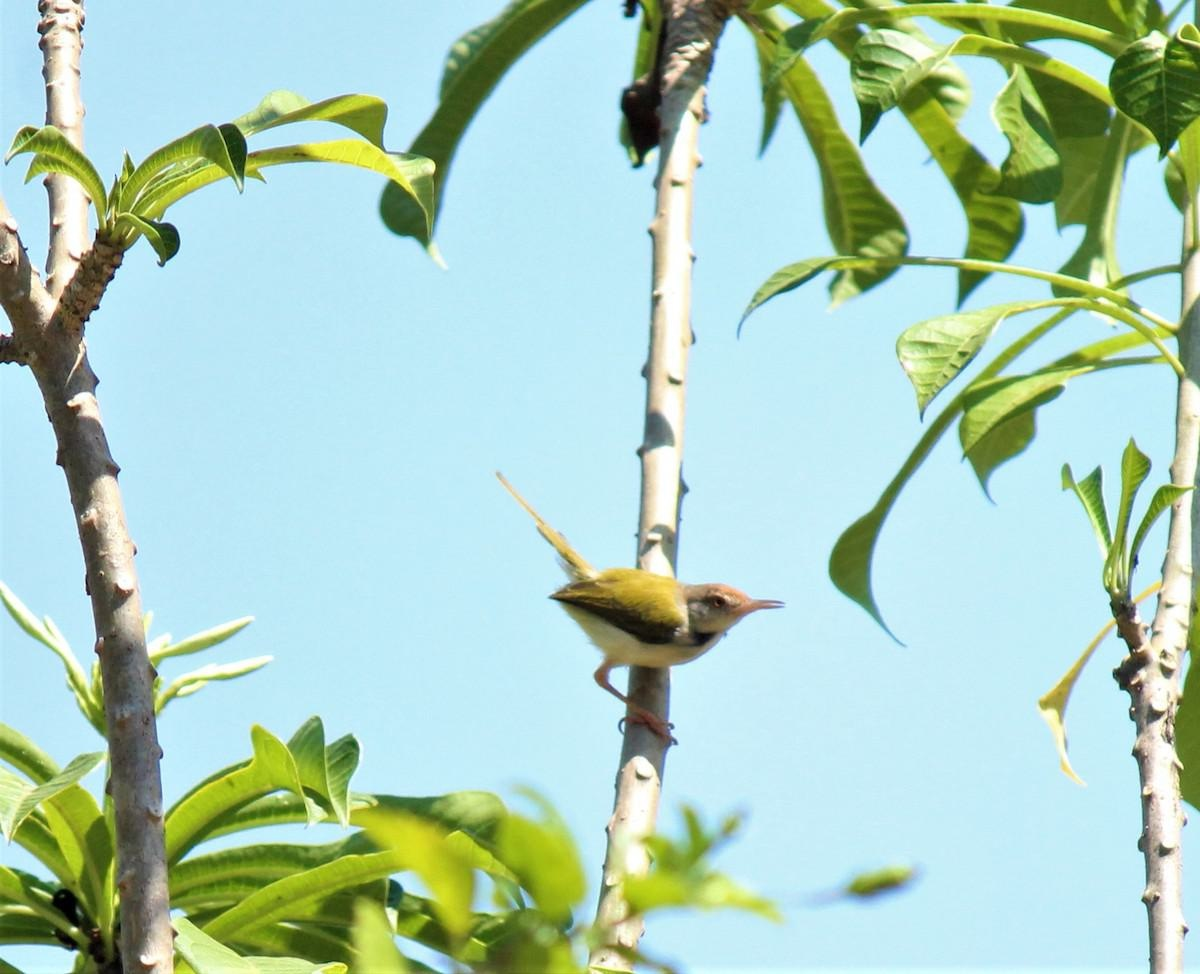tailorbird: (521, 536, 824, 711)
